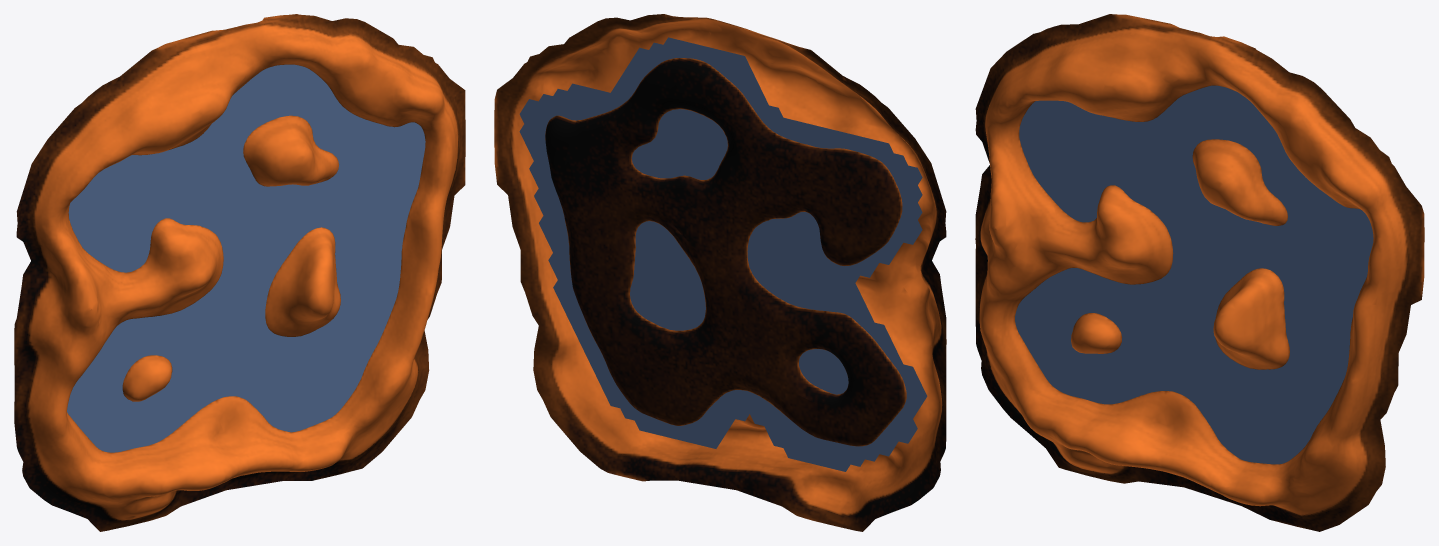
Rendered from mountains.glb.
The picture shows the model from 3 angles, left to right: view 1: azimuth 30°, elevation 25°; view 2: azimuth 150°, elevation 25°; view 3: azimuth 330°, elevation 25°; orthographic projection.
Parts seen in each view (by area): view 1: terrain, water; view 2: terrain, water; view 3: terrain, water.
Boxes of the visible parts, bbox=[...] form: terrain: bbox=[14, 14, 465, 531]; water: bbox=[67, 64, 425, 452]; terrain: bbox=[494, 14, 946, 531]; water: bbox=[519, 37, 927, 471]; terrain: bbox=[975, 14, 1424, 531]; water: bbox=[1015, 85, 1373, 464].
Size of what is drawn, in the model's own units: 62.78 by 63.19 by 7.77.
Materials: 2 (1 with a texture image).
